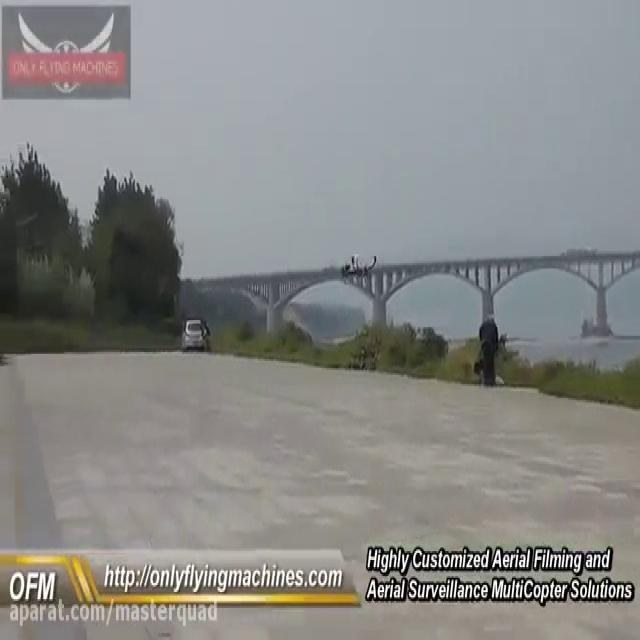drone: (338, 247, 377, 285)
